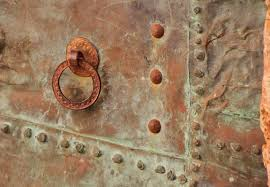rust: (52, 62, 96, 110), (68, 42, 95, 60), (149, 69, 163, 85), (145, 119, 161, 133), (150, 24, 165, 37)
